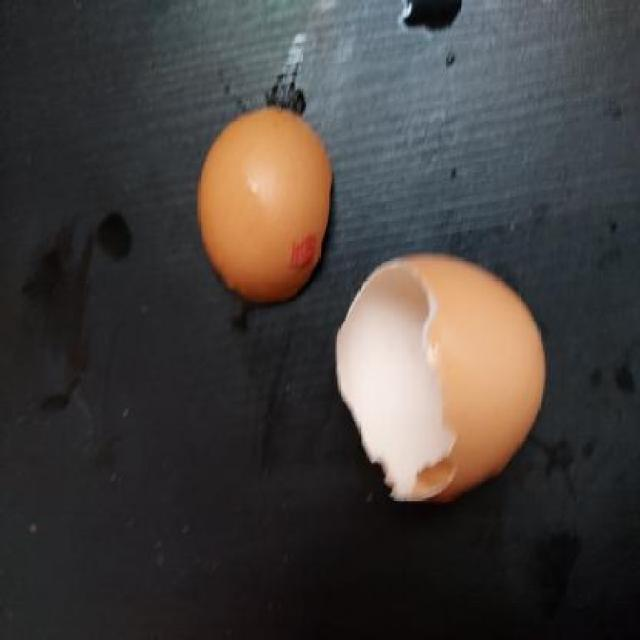biodegradable: (333, 258, 549, 512), (193, 105, 332, 301)
